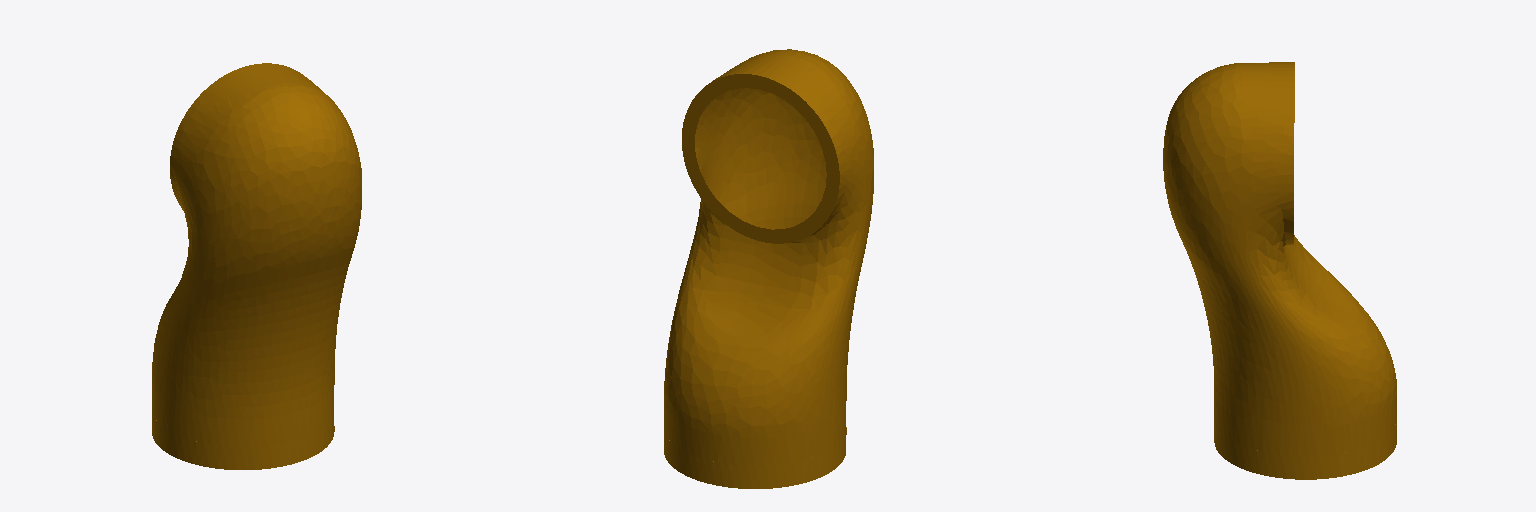
3 views of the same model, side by side, from view 1: azimuth 30°, elevation 25°; view 2: azimuth 150°, elevation 25°; view 3: azimuth 270°, elevation 25° (orthographic).
Visible parts, largest first — view 1: /ambf/env/link2_link2.001; view 2: /ambf/env/link2_link2.001; view 3: /ambf/env/link2_link2.001.
Part boxes in pixels (x1,y1,x2,y2): /ambf/env/link2_link2.001: (152,63,361,469); /ambf/env/link2_link2.001: (664,49,873,488); /ambf/env/link2_link2.001: (1163,62,1396,479).
Size of the model in its own units: 0.12 by 0.2686 by 0.1537.